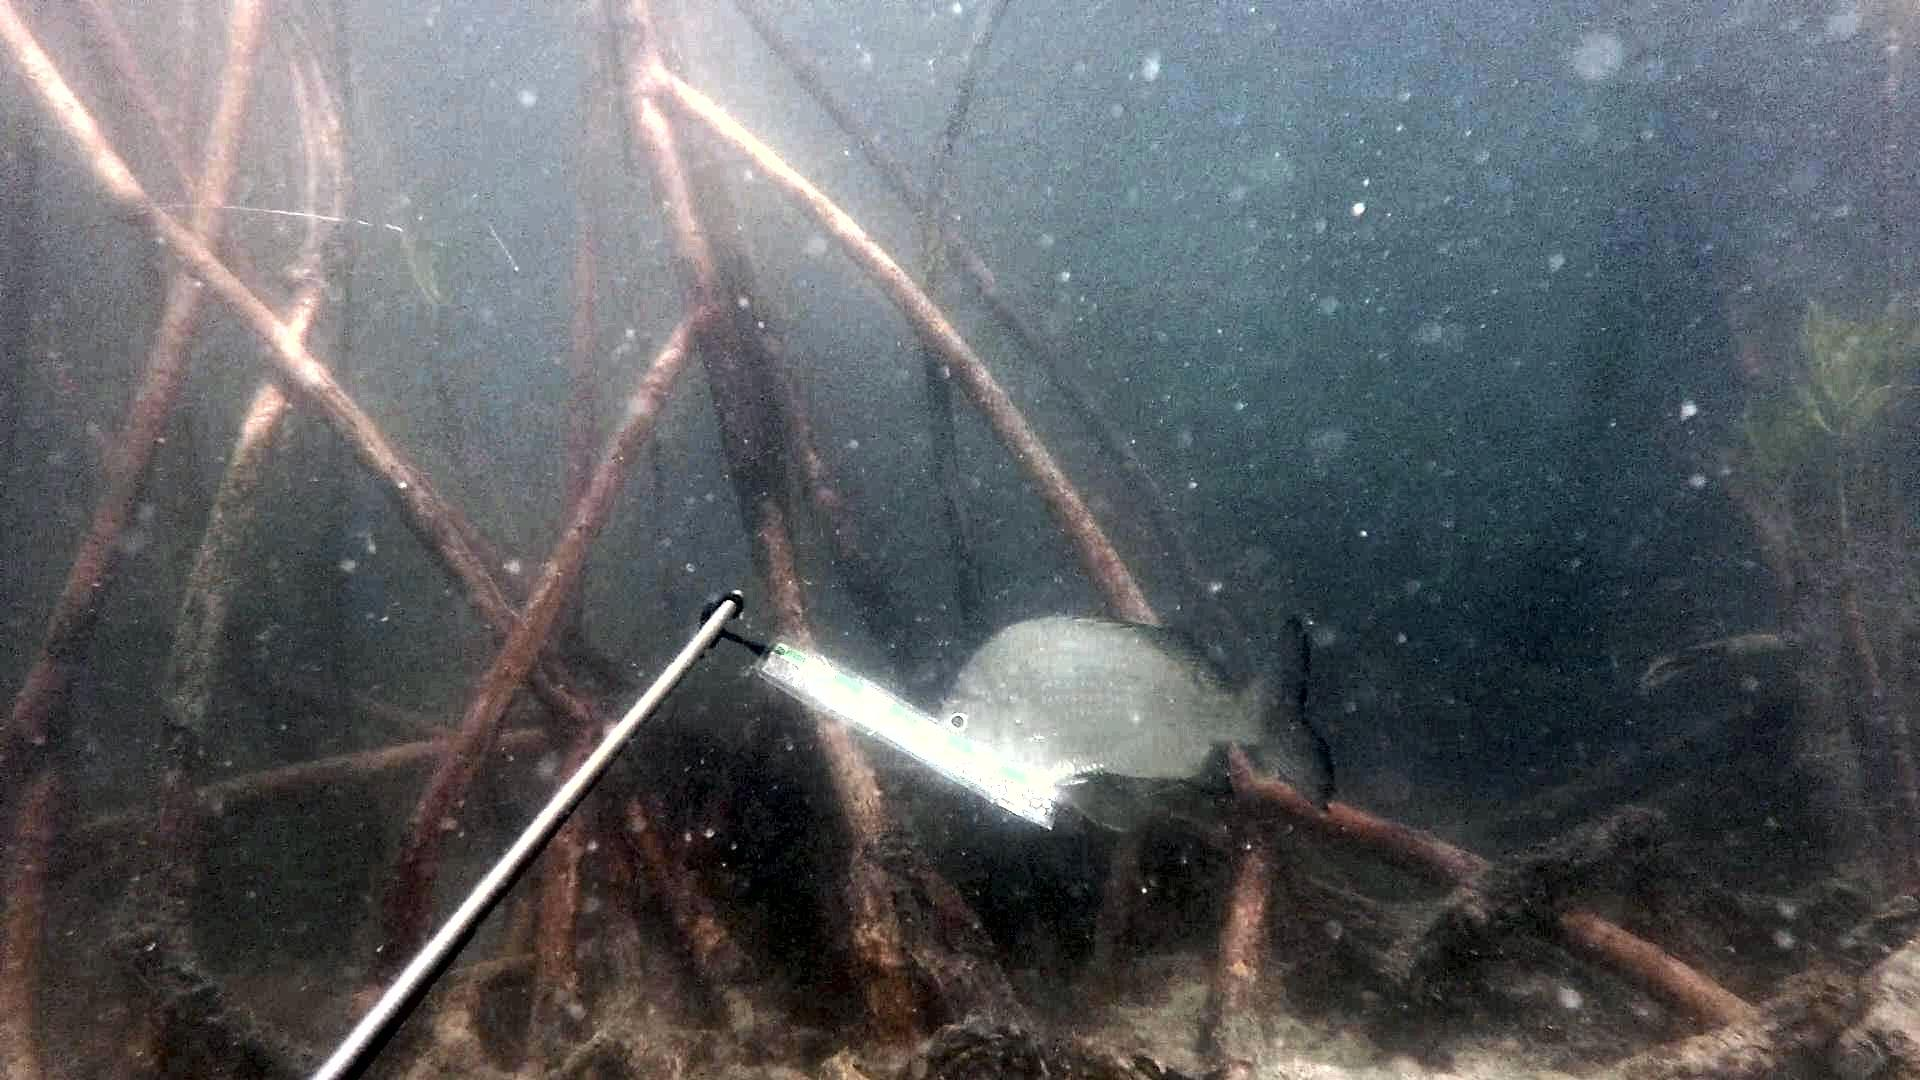acanthopagrus palmaris: (928, 598, 1341, 845)
